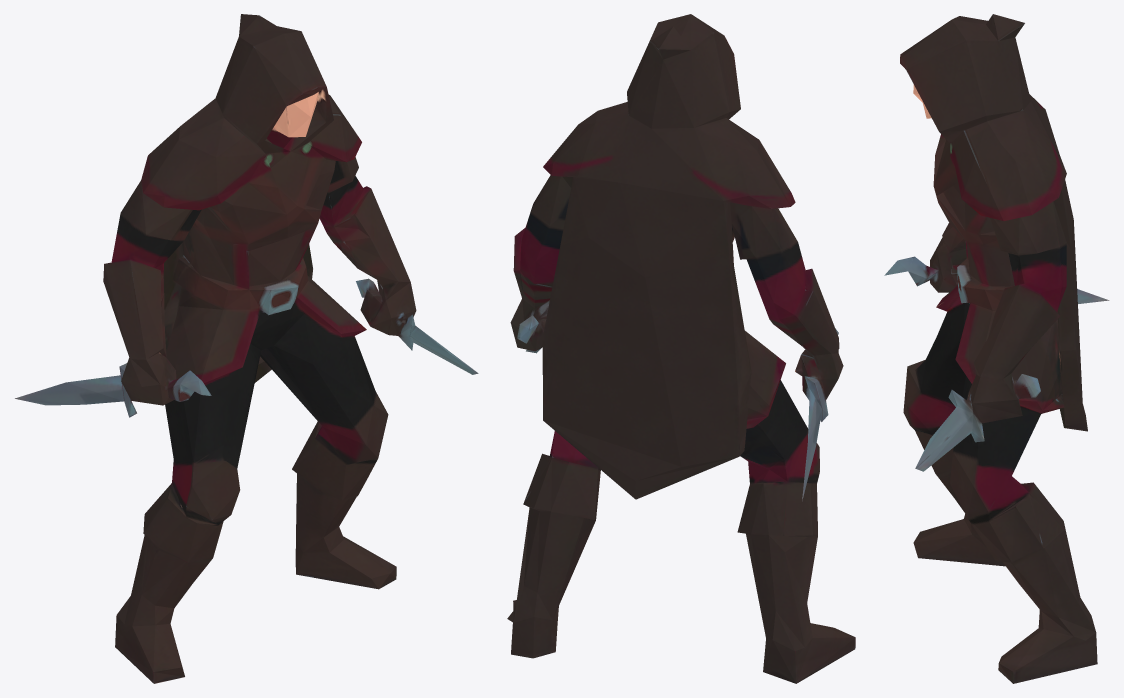
File: rogue-lite.glb
3 renders of one model, left to right at view 1: azimuth 30°, elevation 25°; view 2: azimuth 150°, elevation 25°; view 3: azimuth 270°, elevation 25°, orthographic. The views are drawn at different scales.
Parts seen in each view (by area): view 1: Mesh1.0; view 2: Mesh1.0; view 3: Mesh1.0.
Boxes of the visible parts, x1,y1,x2,y2 form: Mesh1.0: (15,14,478,683); Mesh1.0: (507,14,855,683); Mesh1.0: (884,14,1109,683).
Size of the model in its own units: 1.07 by 1.7 by 0.58.
Materials: 1 (1 with a texture image).
